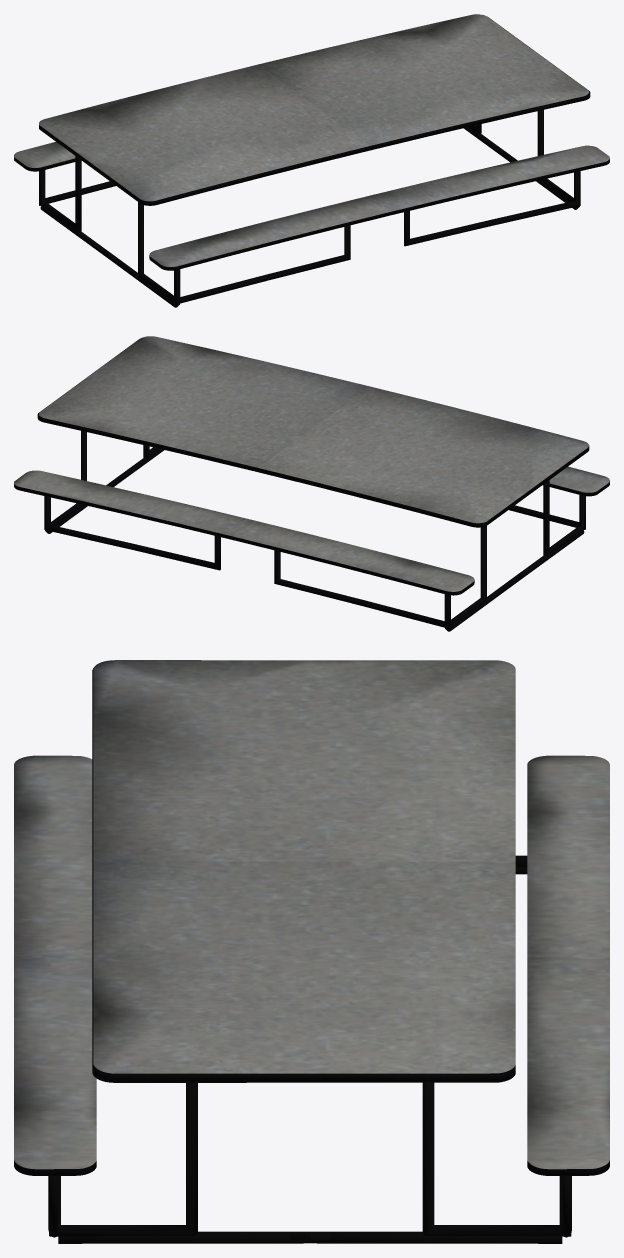
File: tabletest1.FBX
3 renders of one model, top to bottom at view 1: azimuth 30°, elevation 25°; view 2: azimuth 150°, elevation 25°; view 3: azimuth 270°, elevation 25°, orthographic. The views are drawn at different scales.
Parts seen in each view (by area): view 1: Cylinder01; view 2: Cylinder01; view 3: Cylinder01.
Part boxes in pixels (box(x1,y1,x2,y2)): Cylinder01: box(14, 14, 609, 307); Cylinder01: box(14, 336, 609, 631); Cylinder01: box(14, 660, 609, 1243).
Bounding box in the file's own units: 658 × 148 × 400.
Materials: 2 (1 with a texture image).
